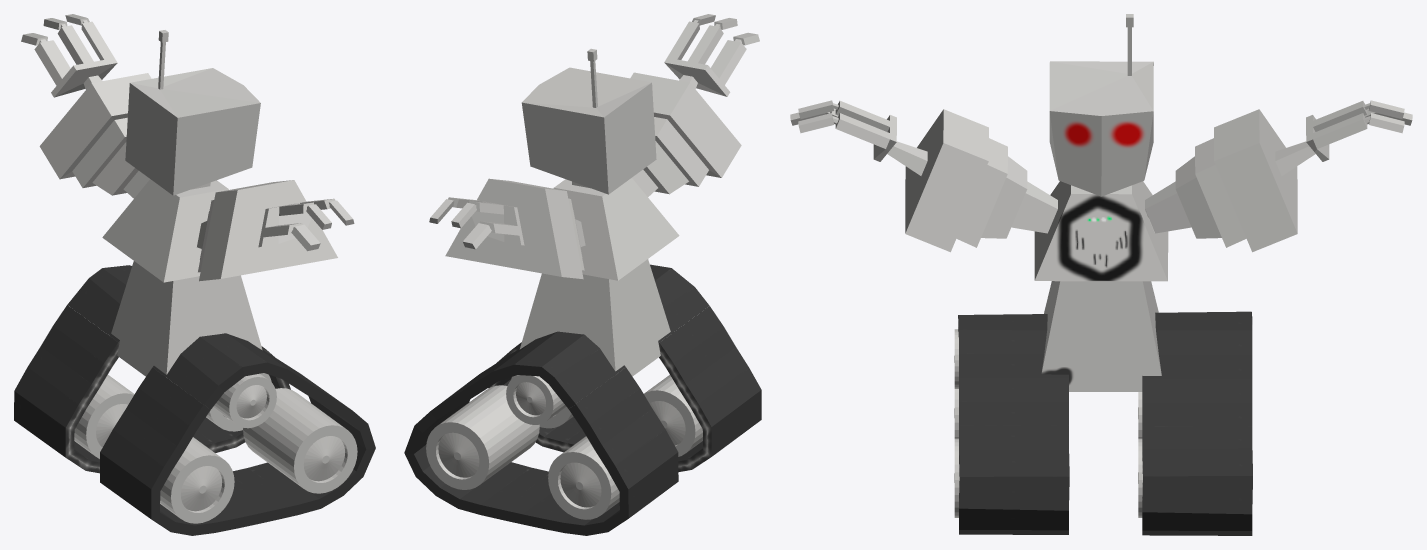
The model's file is second character.obj.
3 renders of one model, left to right at view 1: azimuth 30°, elevation 25°; view 2: azimuth 150°, elevation 25°; view 3: azimuth 270°, elevation 25°, orthographic. The views are drawn at different scales.
Parts seen in each view (by area): view 1: POSTAC.001, Plane.001, kola_przednie, kola_tylnie, kola_gorne; view 2: POSTAC.001, Plane.001, kola_przednie, kola_tylnie, kola_gorne; view 3: POSTAC.001, Plane.001, kola_przednie.
Boxes of the visible parts, x1=… form: POSTAC.001: x1=21, y1=14, x2=354, y2=377; Plane.001: x1=14, y1=265, x2=375, y2=535; kola_przednie: x1=206, y1=373, x2=357, y2=493; kola_tylnie: x1=74, y1=375, x2=234, y2=523; kola_gorne: x1=213, y1=373, x2=276, y2=428; POSTAC.001: x1=429, y1=14, x2=759, y2=376; Plane.001: x1=404, y1=264, x2=761, y2=535; kola_przednie: x1=426, y1=375, x2=573, y2=489; kola_tylnie: x1=548, y1=375, x2=702, y2=519; kola_gorne: x1=506, y1=375, x2=566, y2=424; POSTAC.001: x1=790, y1=14, x2=1412, y2=391; Plane.001: x1=958, y1=311, x2=1252, y2=535; kola_przednie: x1=954, y1=438, x2=1142, y2=517.
Size of the model in its own units: 4.62 by 8.59 by 10.19.
1 material, 1 textured.
